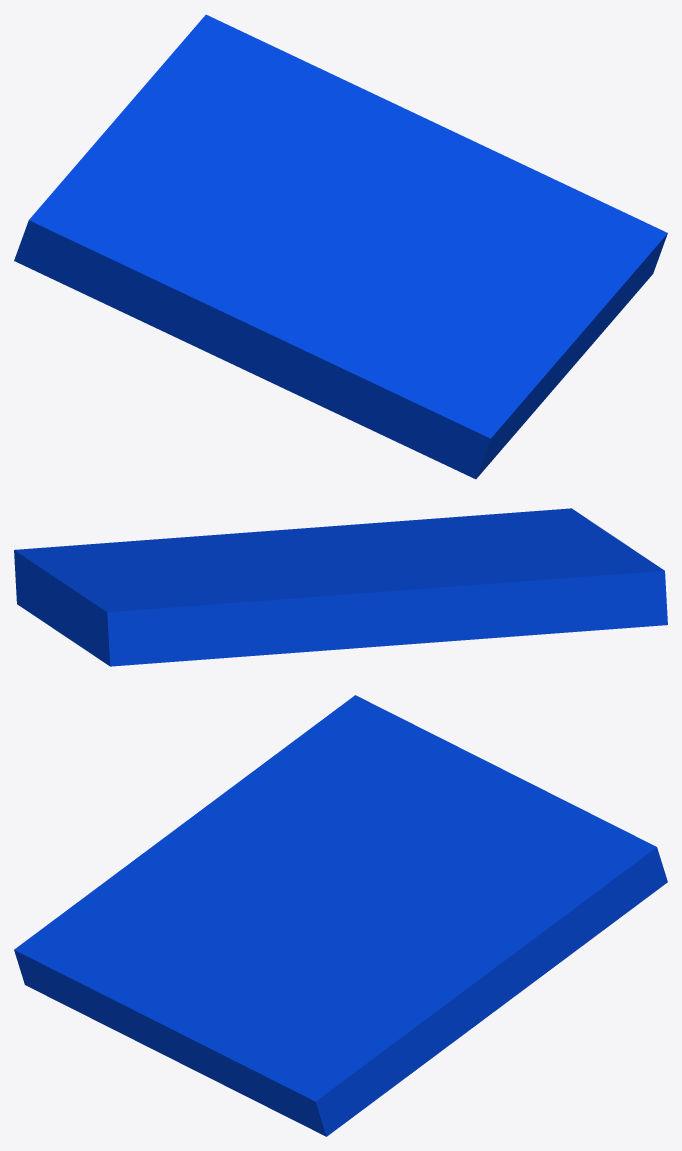
Rendered from bluePaper.fbx.
3 views of the same model, one above another, from view 1: azimuth 30°, elevation 25°; view 2: azimuth 150°, elevation 25°; view 3: azimuth 270°, elevation 25° (orthographic). The views are drawn at different scales.
Visible parts, largest first — view 1: Paper; view 2: Paper; view 3: Paper.
Part boxes in pixels (x1,y1,x2,y2): Paper: (14, 14, 667, 479); Paper: (14, 508, 667, 666); Paper: (14, 695, 667, 1136).
Bounding box in the file's own units: 0.746 × 0.217 × 0.7447.
